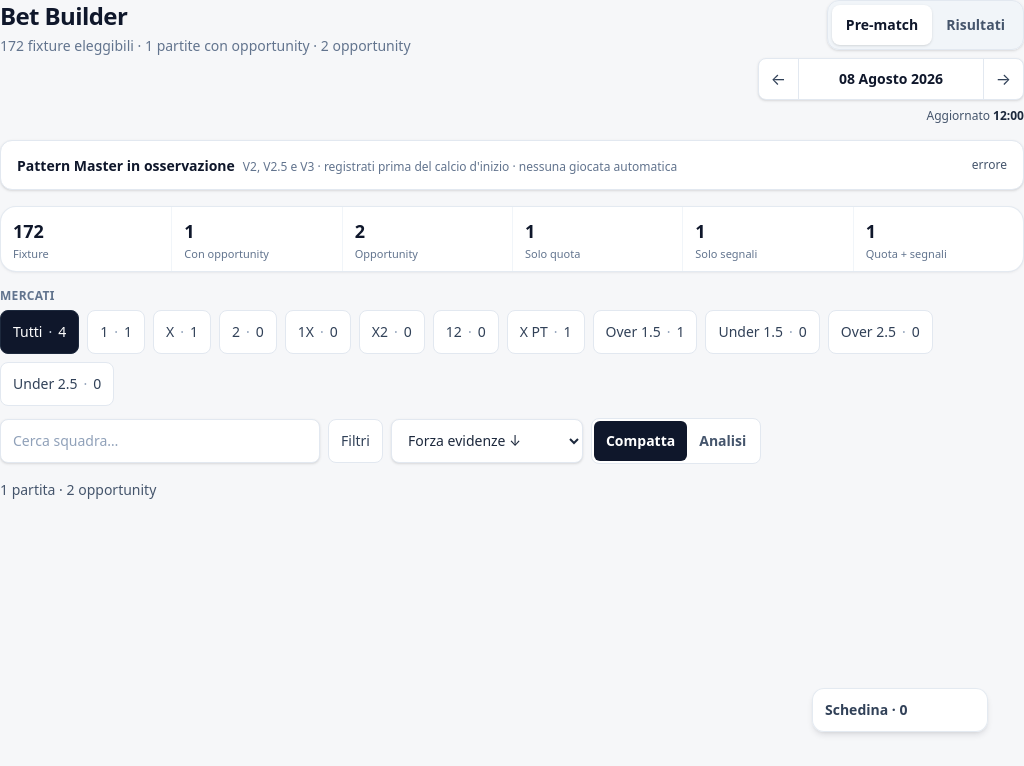
Test: BetBuilderPage › filtro Contesto disponibile nasconde opportunity senza modulo
Click the button with test id "bet-builder-filters-toggle".
click(356, 441)  # box x1=328 y1=419 x2=383 y2=463
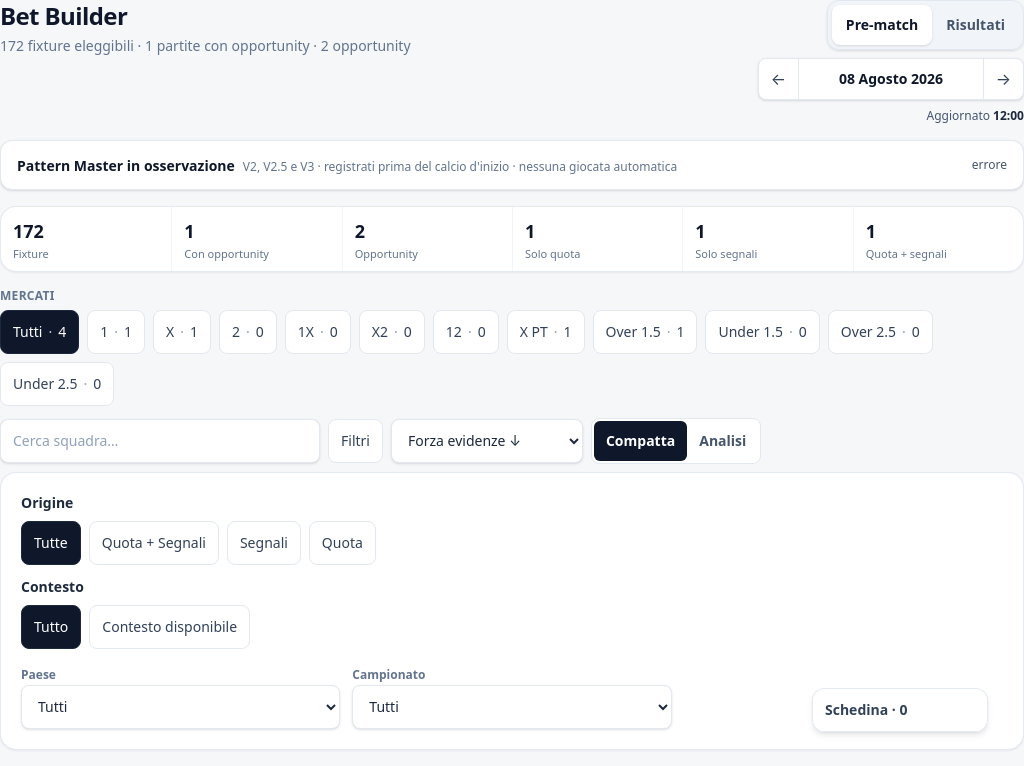
Click the button with test id "bet-builder-context-available".
click(170, 627)  # box x1=89 y1=605 x2=250 y2=649
(page scrolled)
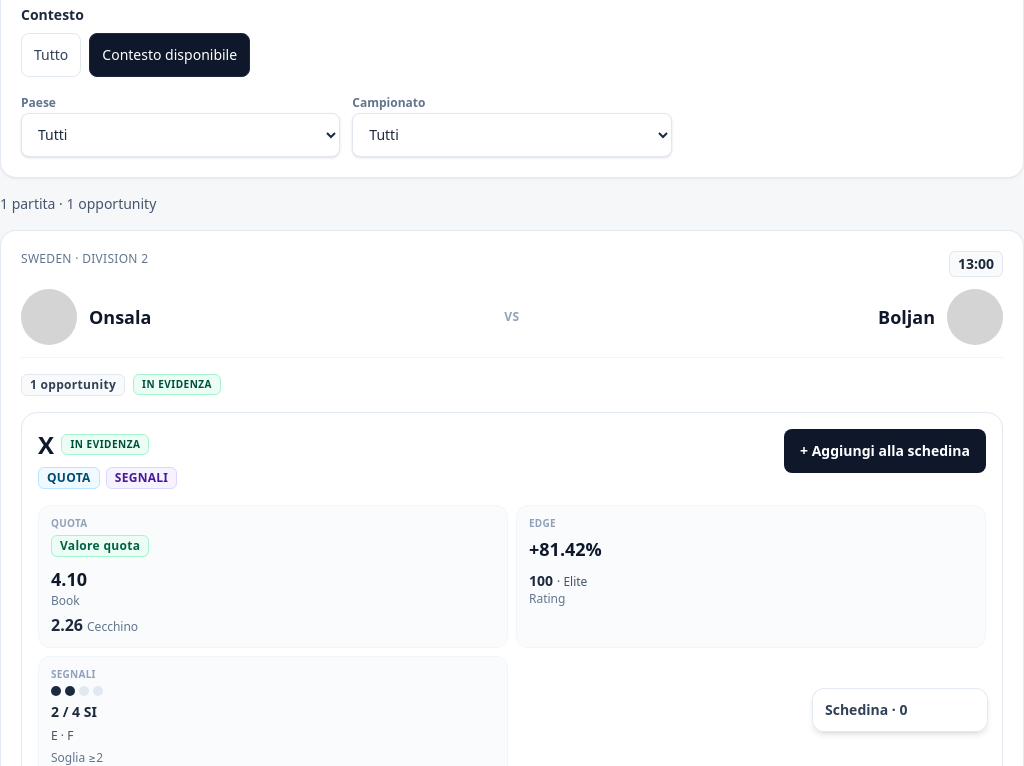
Expected: the text "1 opportunity" is shown, x1=21 y1=374 x2=125 y2=396
